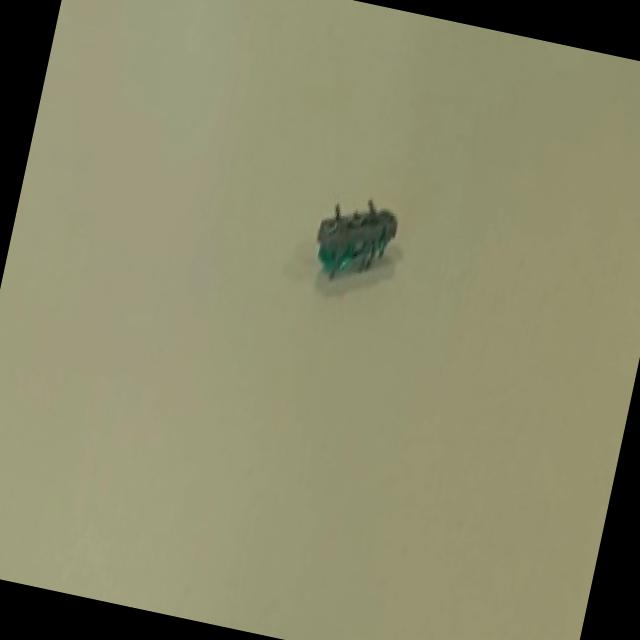5_NanoBug_GrisClaro: (280, 164, 424, 307)
